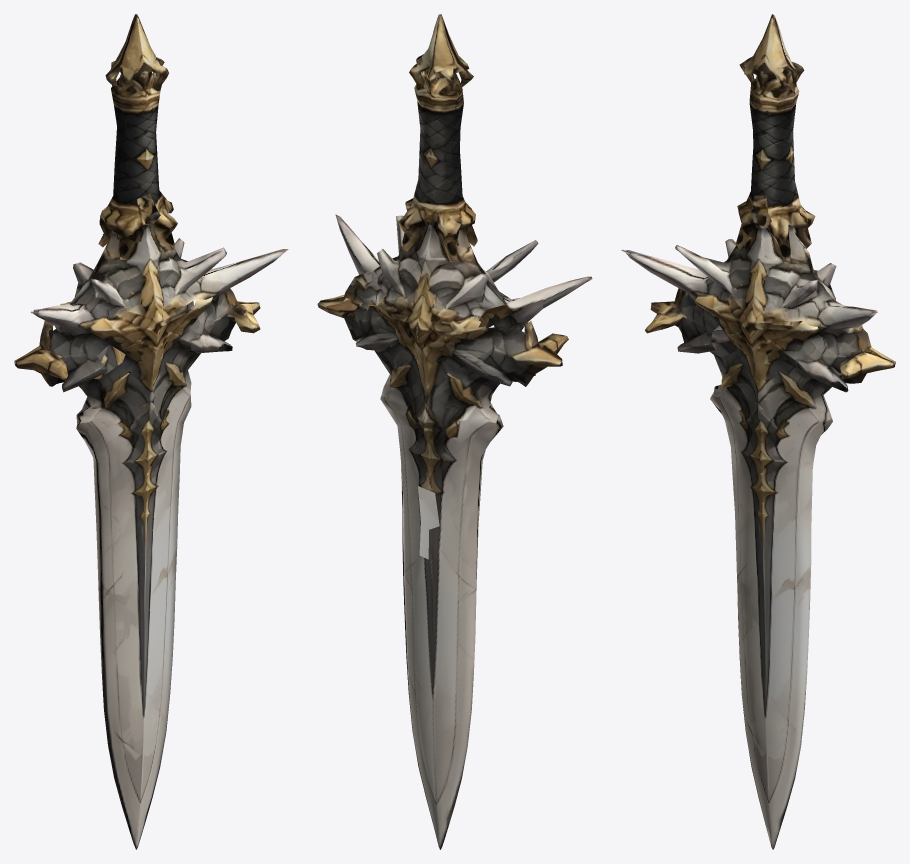
3 views of the same model, side by side, from view 1: azimuth 30°, elevation 25°; view 2: azimuth 150°, elevation 25°; view 3: azimuth 330°, elevation 25° (orthographic).
Parts seen in each view (by area): view 1: tripo_node_234c431d-46e8-4029-a5ca-d336cb99fc7f; view 2: tripo_node_234c431d-46e8-4029-a5ca-d336cb99fc7f; view 3: tripo_node_234c431d-46e8-4029-a5ca-d336cb99fc7f.
Boxes of the visible parts, left/top/right/bottom form: tripo_node_234c431d-46e8-4029-a5ca-d336cb99fc7f: left=14, top=14, right=288, bottom=849; tripo_node_234c431d-46e8-4029-a5ca-d336cb99fc7f: left=317, top=14, right=592, bottom=849; tripo_node_234c431d-46e8-4029-a5ca-d336cb99fc7f: left=621, top=14, right=895, bottom=849.
Bounding box in the file's own units: 0.3151 × 0.9773 × 0.1109.
1 material, 1 textured.
